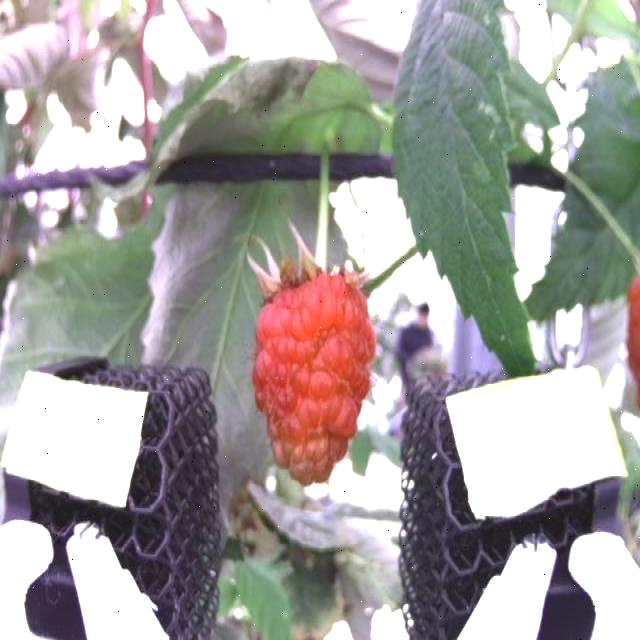Riped berries: (244, 254, 386, 473), (624, 273, 640, 402)
